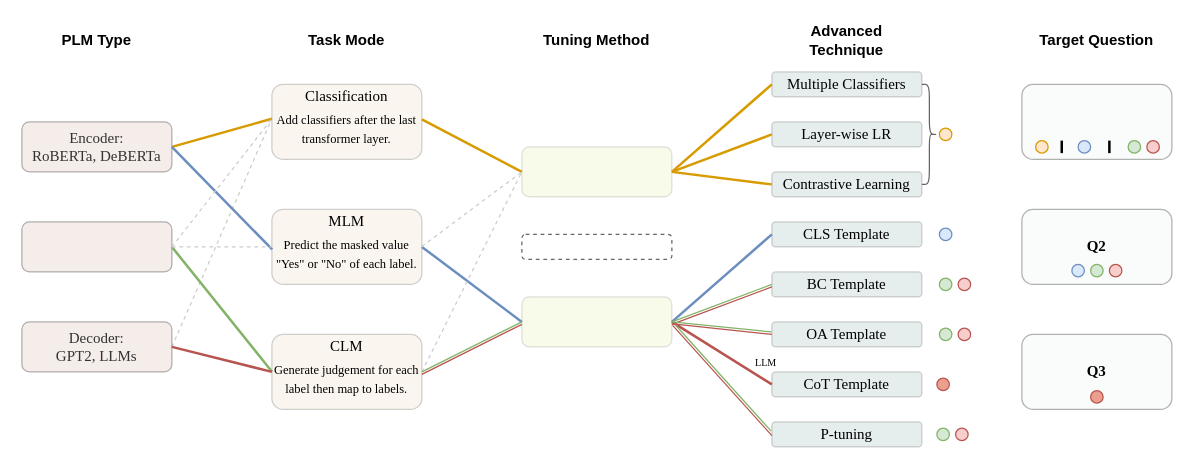
Image size: 1194x469. Some labels were removed from this diagram. Here are the shapes that lost their labels. From the top down, the centre of each, then its label:
At point (1096, 121): "Q1".
At point (596, 171): "Fine-tuning (Unfix PLM)".
At point (96, 246): "Seq2Seq: T5".
At point (596, 246): "Fine-tuning + Prompt".
At point (596, 321): "Prompt tuning (Fix PLM)".
